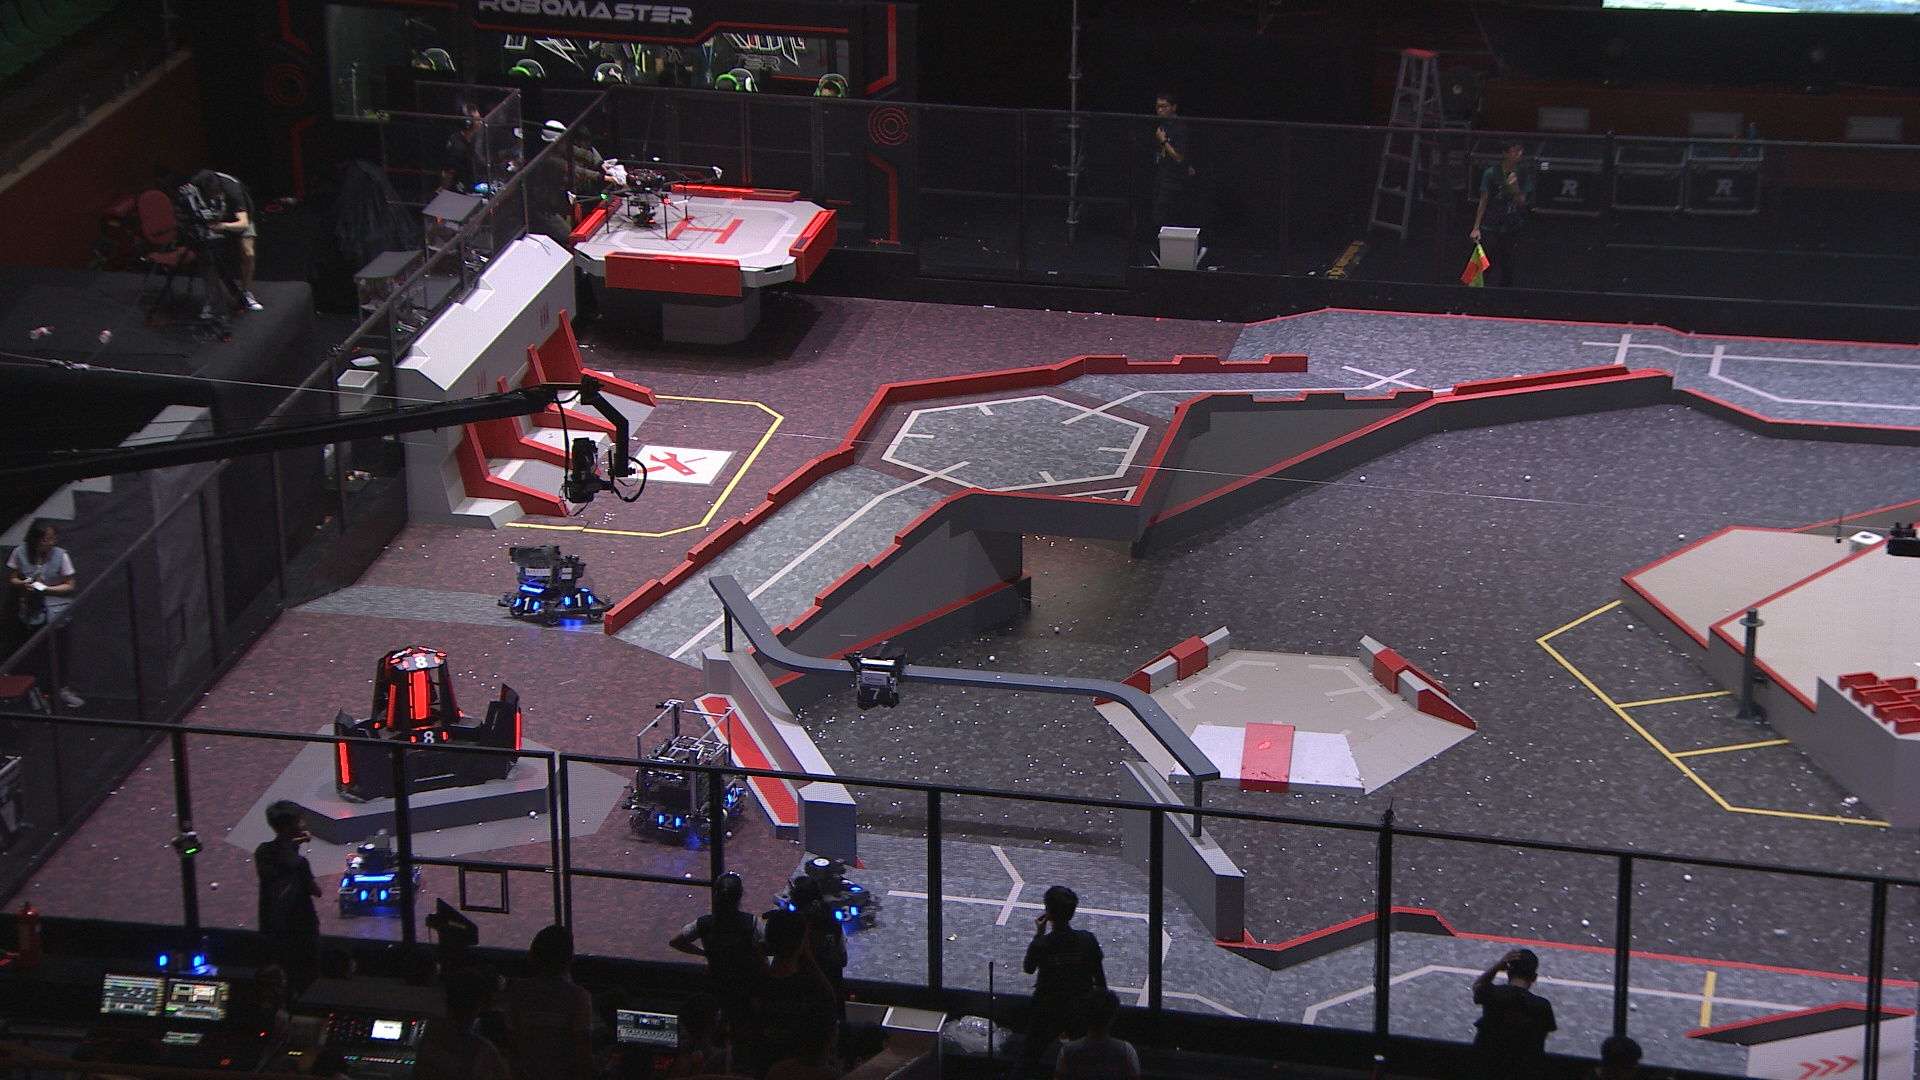armor: (404, 671, 430, 725), (334, 741, 352, 785), (400, 655, 443, 671), (406, 731, 448, 746), (385, 684, 398, 735), (856, 687, 894, 704), (560, 591, 595, 608), (512, 707, 524, 754), (655, 814, 684, 832), (356, 887, 386, 903), (833, 903, 858, 922), (509, 597, 539, 612), (727, 785, 742, 806)
base: (332, 644, 526, 804)
car: (622, 699, 750, 847), (496, 545, 612, 622), (771, 853, 884, 934), (334, 829, 422, 916)
watcher: (845, 646, 906, 712)
